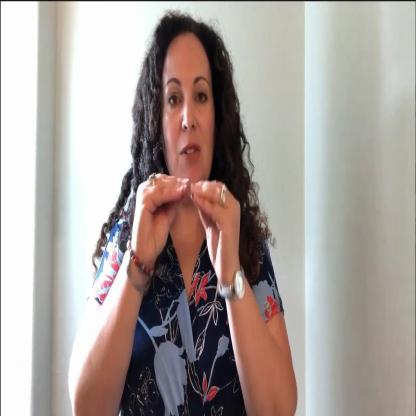Fix: (129, 172, 241, 292)
